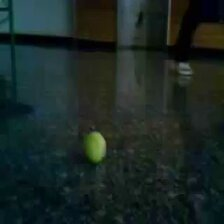tennis: (84, 130, 106, 164)
